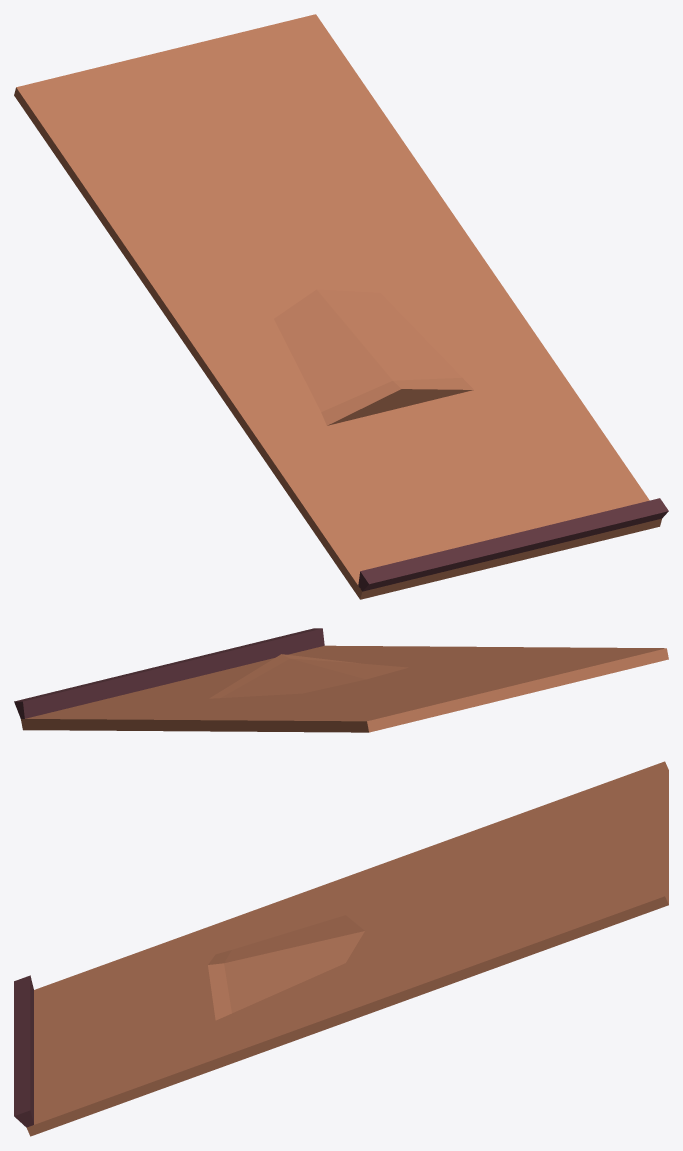
The model's file is empire-roof-big-1m-edge-empire.glb.
The picture shows the model from 3 angles, top to bottom: view 1: azimuth 30°, elevation 25°; view 2: azimuth 210°, elevation 25°; view 3: azimuth 270°, elevation 25°; orthographic projection. The views are drawn at different scales.
Visible parts, largest first — view 1: SM_Roof_Big_1m_Edge_Empire; view 2: SM_Roof_Big_1m_Edge_Empire; view 3: SM_Roof_Big_1m_Edge_Empire.
Part boxes in pixels (x1,y1,x2,y2): SM_Roof_Big_1m_Edge_Empire: [14, 14, 668, 599]; SM_Roof_Big_1m_Edge_Empire: [14, 628, 668, 732]; SM_Roof_Big_1m_Edge_Empire: [14, 761, 668, 1136].
Size of the model in its own units: 1.5 by 1.25 by 3.08.
